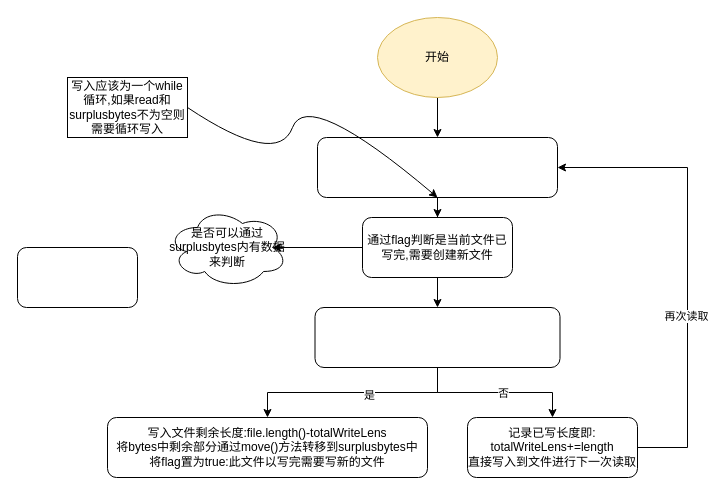
Image size: 725x495. Some labels were removed from this diagram. The shapes that lost their labels are listed below. From the top down, each one's box as (x1, y1, x2, y2) in pixels, then its label:
(316, 136, 558, 198): 读取一个bytes(1024*10)的长度
(16, 246, 138, 308): 对surplusbytes中是否有数据的判断
(314, 306, 560, 368): 判断(bytes+ surplusbytes )是否比当前文件剩余写入长度长(file.length()-totalWriteLens)
